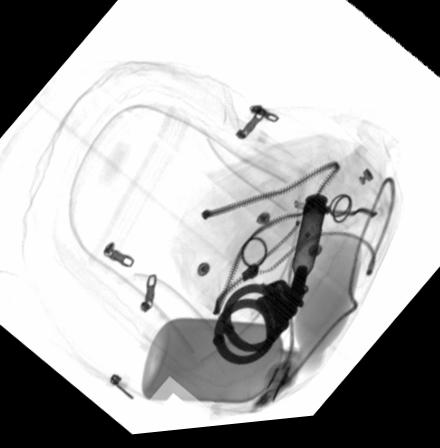Bullet: (289, 200, 328, 324)
HandCuffs: (209, 285, 307, 370)
